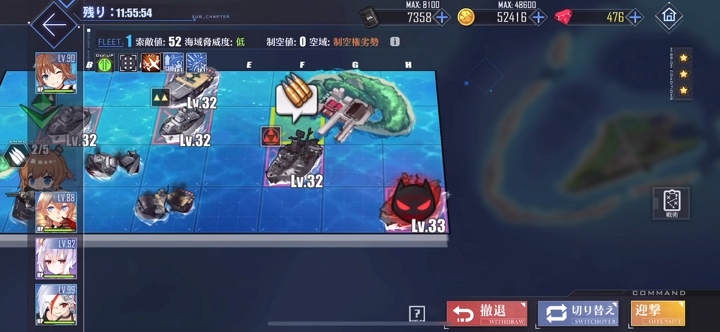boss: (382, 168, 452, 234)
lv3: (259, 128, 322, 184)
